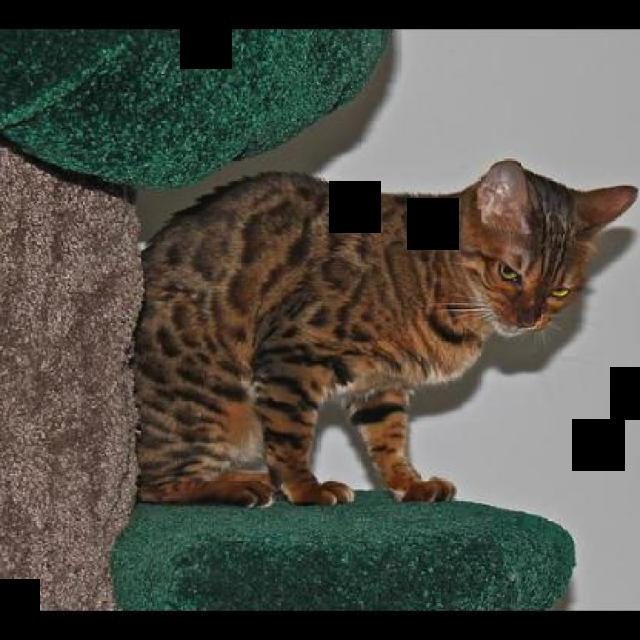unauthorized: (130, 157, 638, 509)
